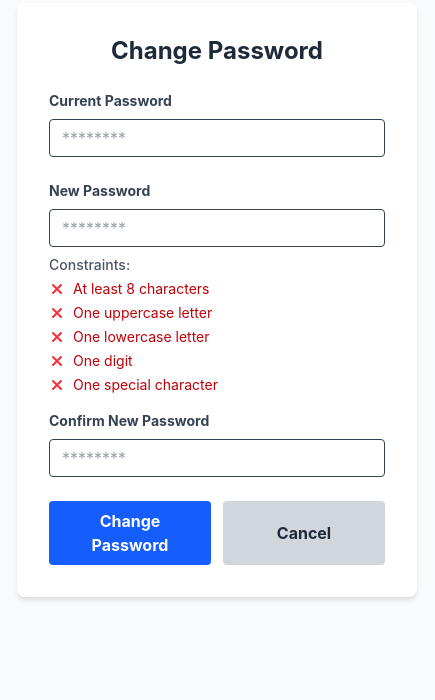
it: ChangePasswordPage › should handle network errors gracefully
This screenshot has width=435, height=700.
Type "OldPass123!" into the password field labelled "Current Password" at (217, 138), box [49,119,385,157]
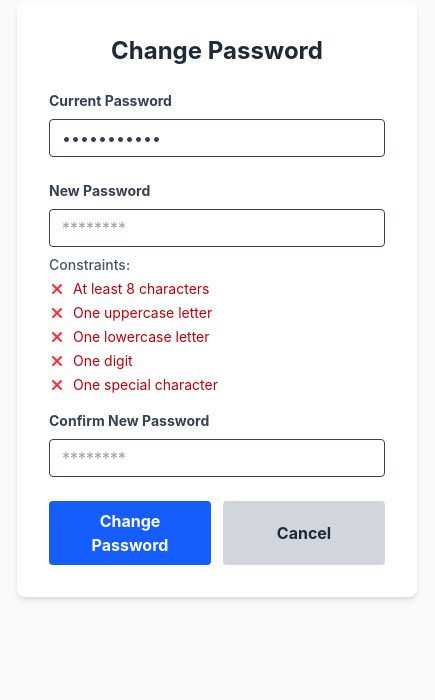
Type "NewPass123!" into the password field labelled "New Password" at (217, 228), box [49,209,385,247]
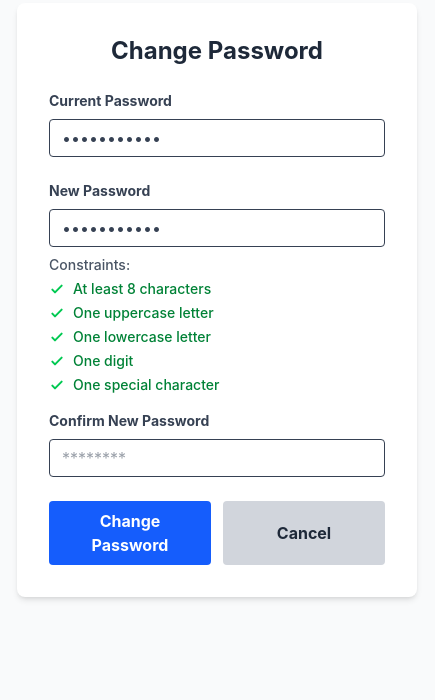
Type "NewPass123!" into the password field labelled "Confirm New Password" at (217, 458), box [49,439,385,477]
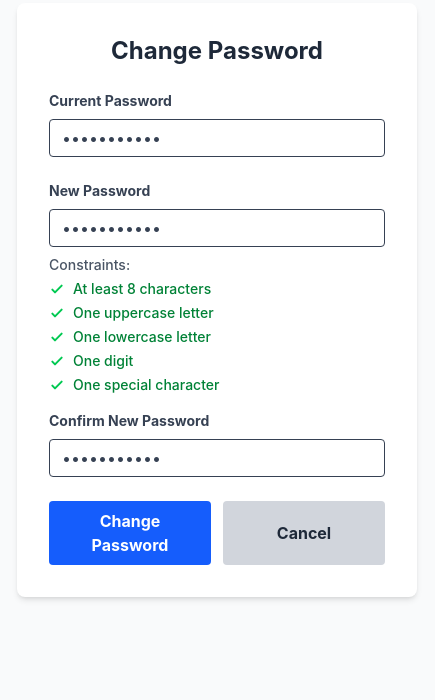
Click the button "Change Password" at (130, 533), box [49,501,211,565]
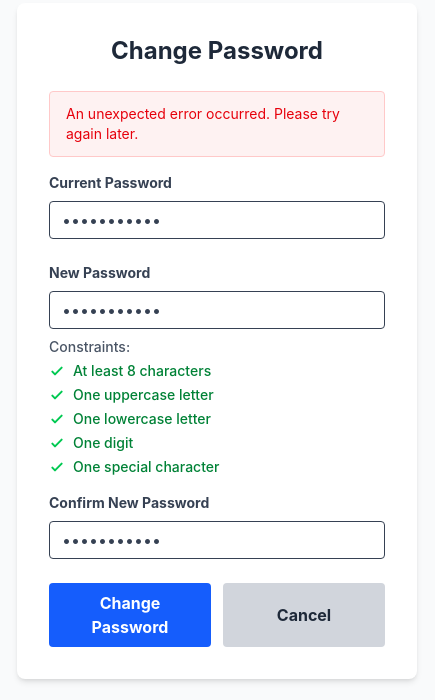
expect the text "An unexpected error occurred. Please try again later." is shown: met, box [66,105,340,142]
